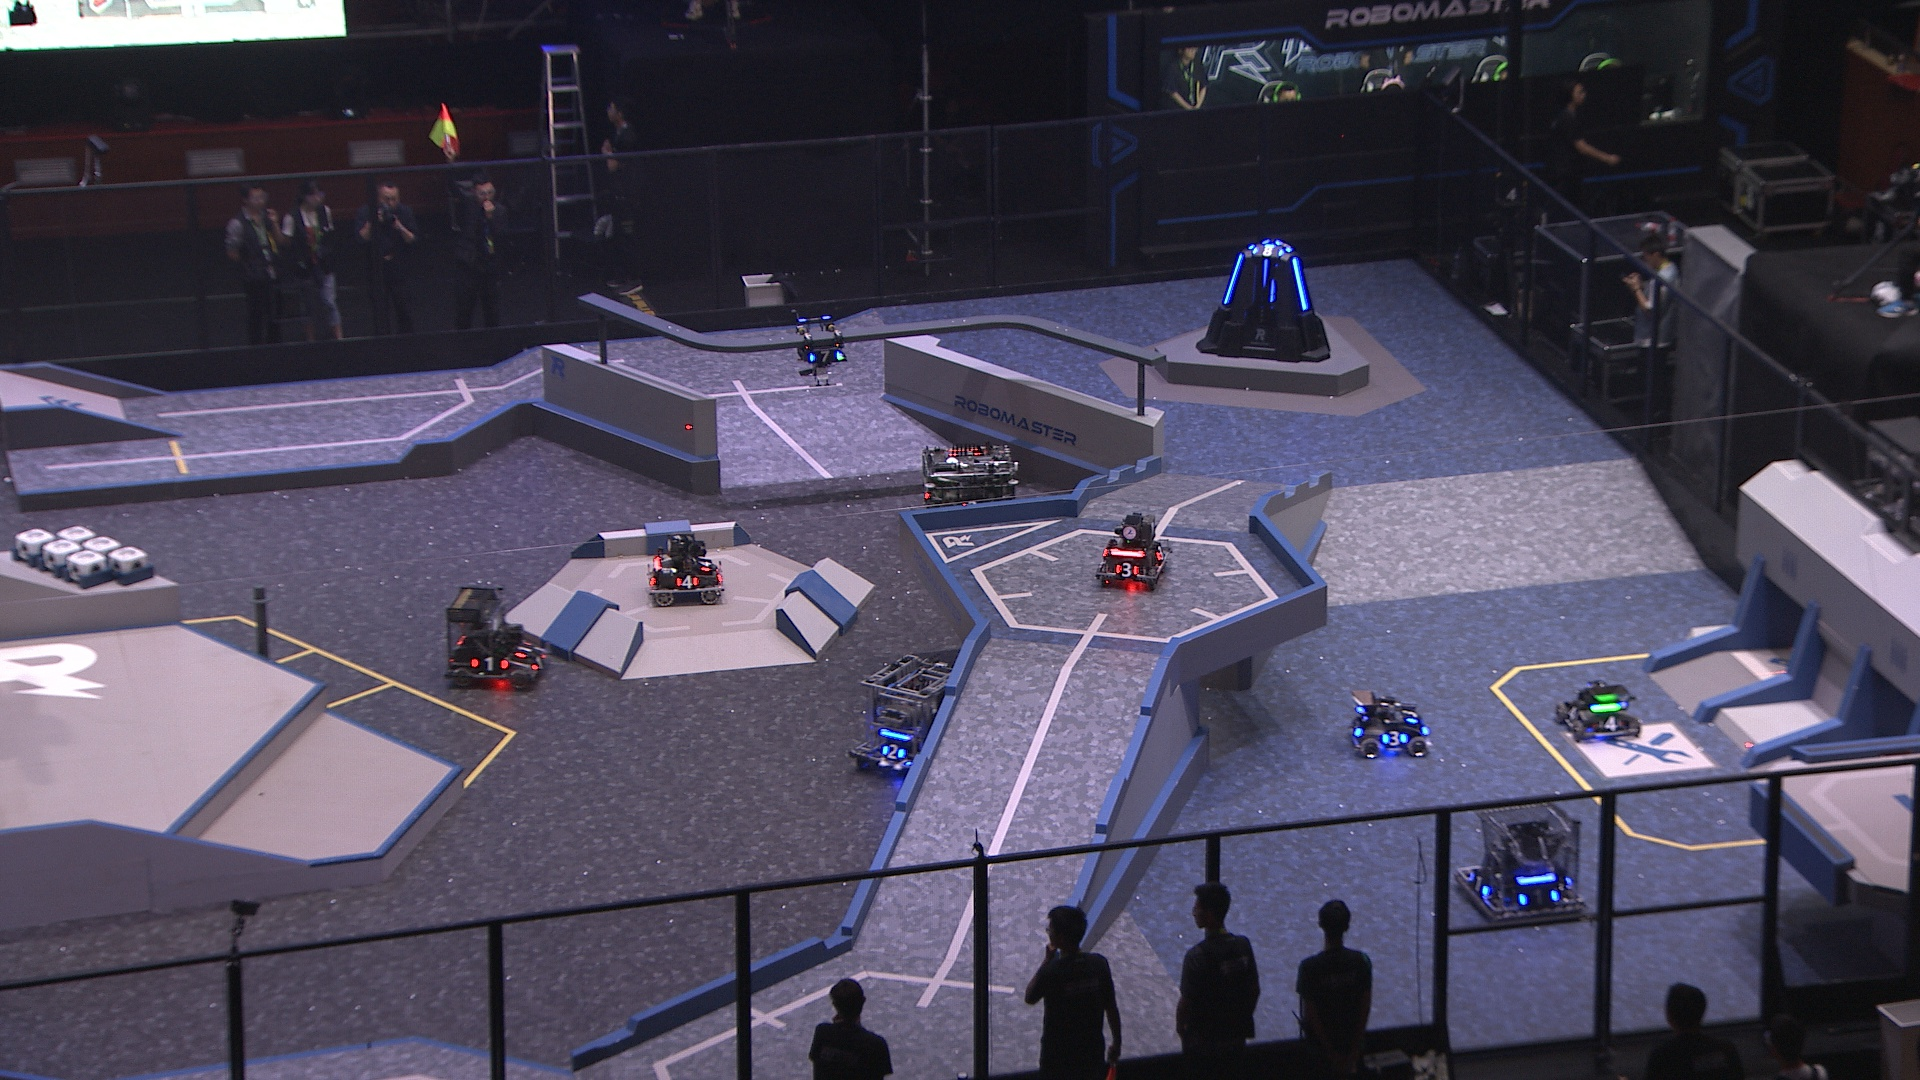armor: (1220, 253, 1244, 305), (1291, 257, 1313, 310), (1522, 885, 1557, 906), (807, 348, 845, 367), (471, 655, 509, 673), (1465, 868, 1487, 894), (1253, 244, 1283, 258), (1598, 716, 1626, 732), (1381, 731, 1408, 746), (673, 574, 700, 589), (1116, 560, 1139, 578), (882, 744, 906, 760), (531, 651, 549, 673), (1352, 713, 1364, 742), (1261, 257, 1271, 289), (1565, 703, 1580, 725), (1404, 705, 1418, 727), (1154, 546, 1168, 564), (517, 640, 529, 659), (960, 496, 978, 508), (699, 556, 713, 571)
base: (1193, 239, 1335, 361)
car: (1452, 799, 1588, 924), (845, 655, 959, 781), (439, 582, 556, 692), (920, 442, 1019, 542), (646, 526, 728, 608), (1091, 512, 1171, 591), (1346, 684, 1429, 760), (1557, 680, 1642, 744)
watcher: (794, 315, 851, 376)
